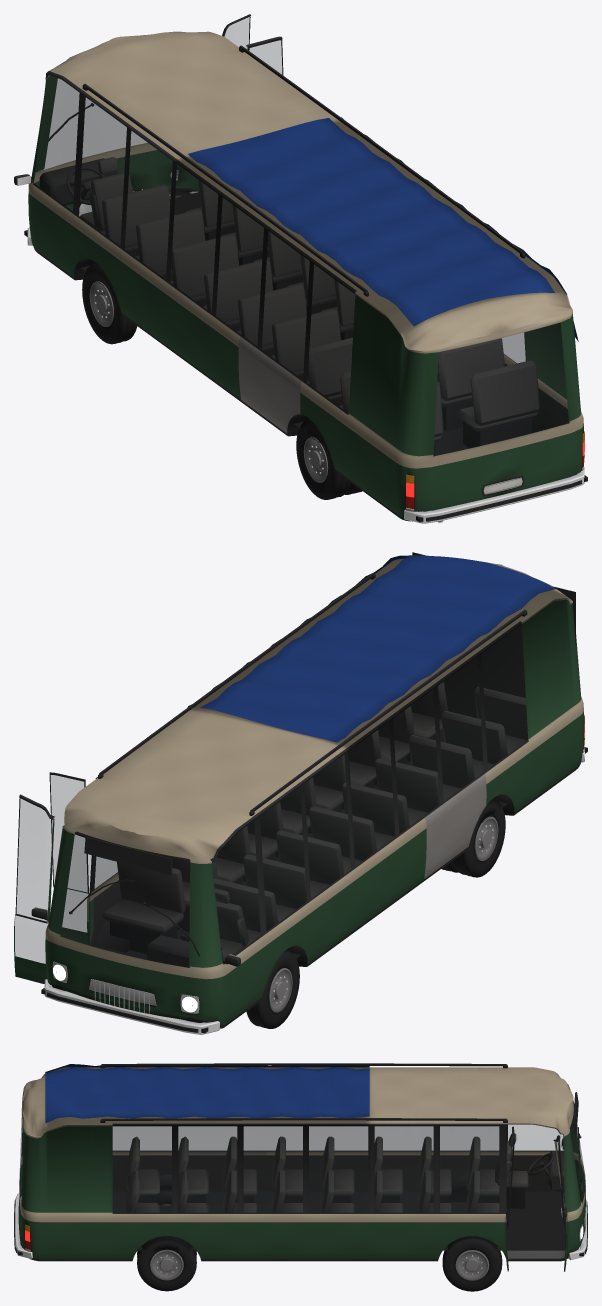
The model's file is festival_bus.glb.
The picture shows the model from 3 angles, top to bottom: view 1: azimuth 30°, elevation 25°; view 2: azimuth 150°, elevation 25°; view 3: azimuth 270°, elevation 25°; orthographic projection. The views are drawn at different scales.
Parts seen in each view (by area): view 1: festival_bus_body, wheel_rl, wheel_fl; view 2: festival_bus_body, wheel_rl, wheel_fl; view 3: festival_bus_body, wheel_fr, wheel_rr.
Boxes of the visible parts, x1,y1,x2,y2 form: festival_bus_body: (14,14,587,523); wheel_rl: (296,419,362,499); wheel_fl: (82,263,137,344); festival_bus_body: (14,552,587,1034); wheel_rl: (441,799,505,877); wheel_fl: (246,950,299,1028); festival_bus_body: (14,1063,587,1271); wheel_fr: (442,1236,502,1291); wheel_rr: (137,1236,196,1291).
Bounding box in the file's own units: 3.08 × 3.05 × 9.21.
